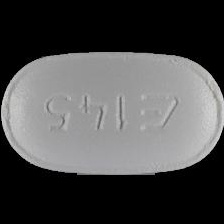68084-051: (0, 0, 224, 224)
